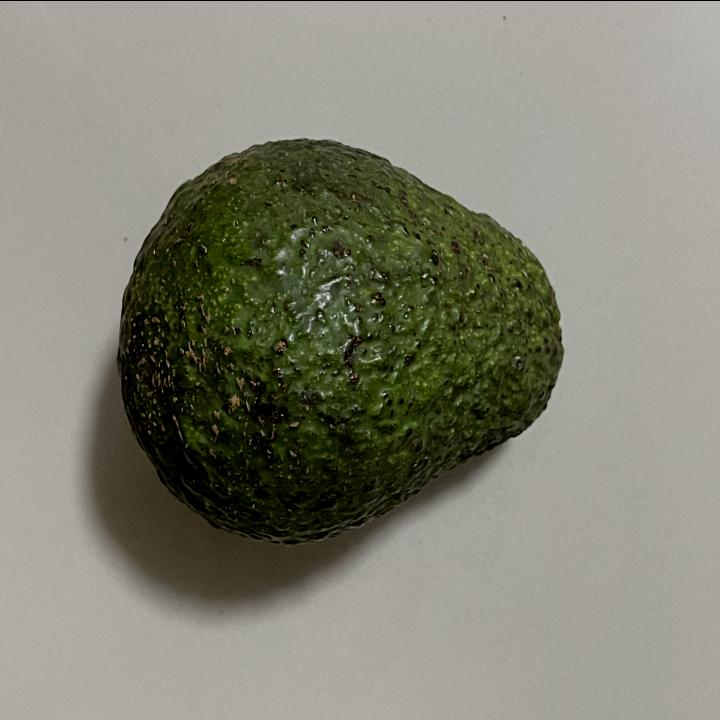Level1: (109, 124, 579, 556)
